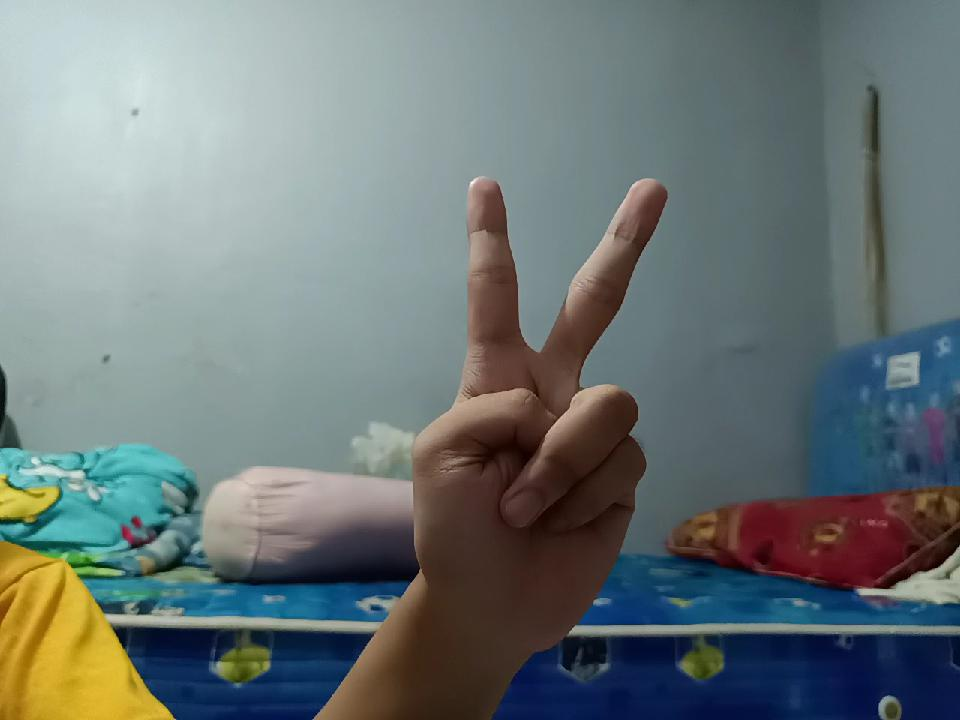scissors: (382, 168, 668, 649)
